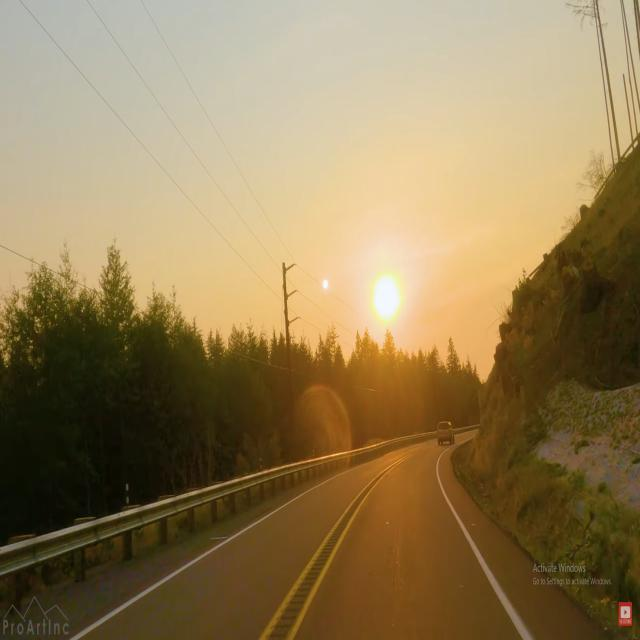sun: (352, 260, 419, 333)
